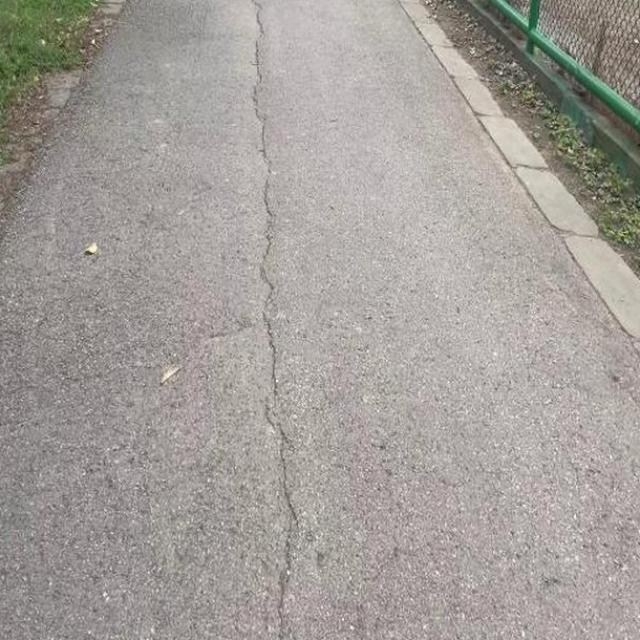Memanjang: (243, 0, 313, 640)
